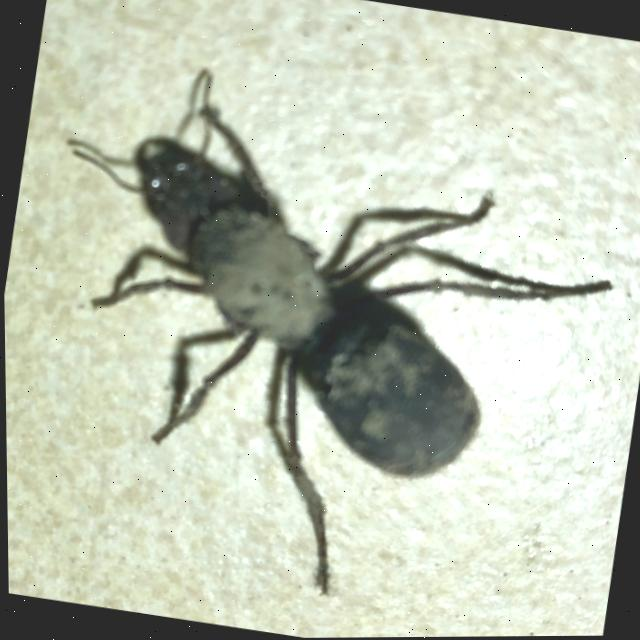Alive-Female-Dealate: (7, 53, 639, 638)
